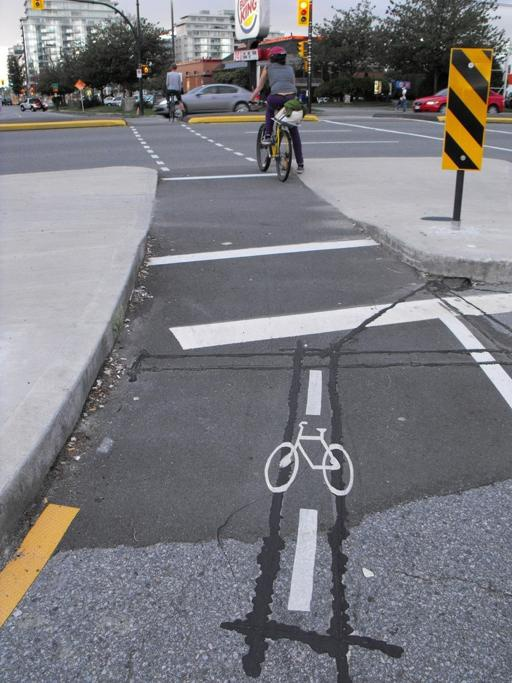non-vehicle: (246, 97, 294, 183), (167, 90, 175, 124)
